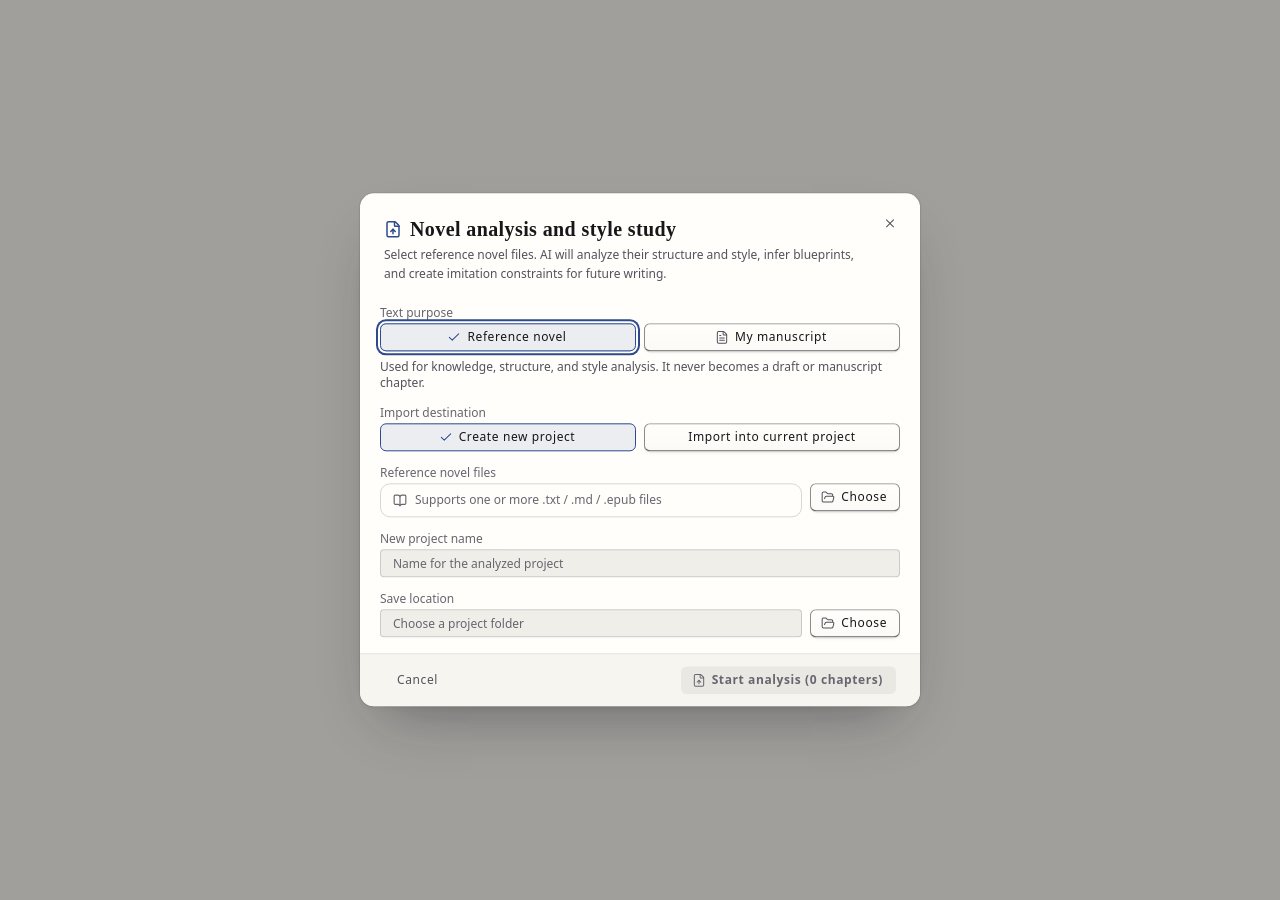
Test: current-project reference import › shows the merged new-import inspection in English without a renderer grant step
Click the button with test id "import-target-current".
click(772, 438)  # box [644,424,900,452]
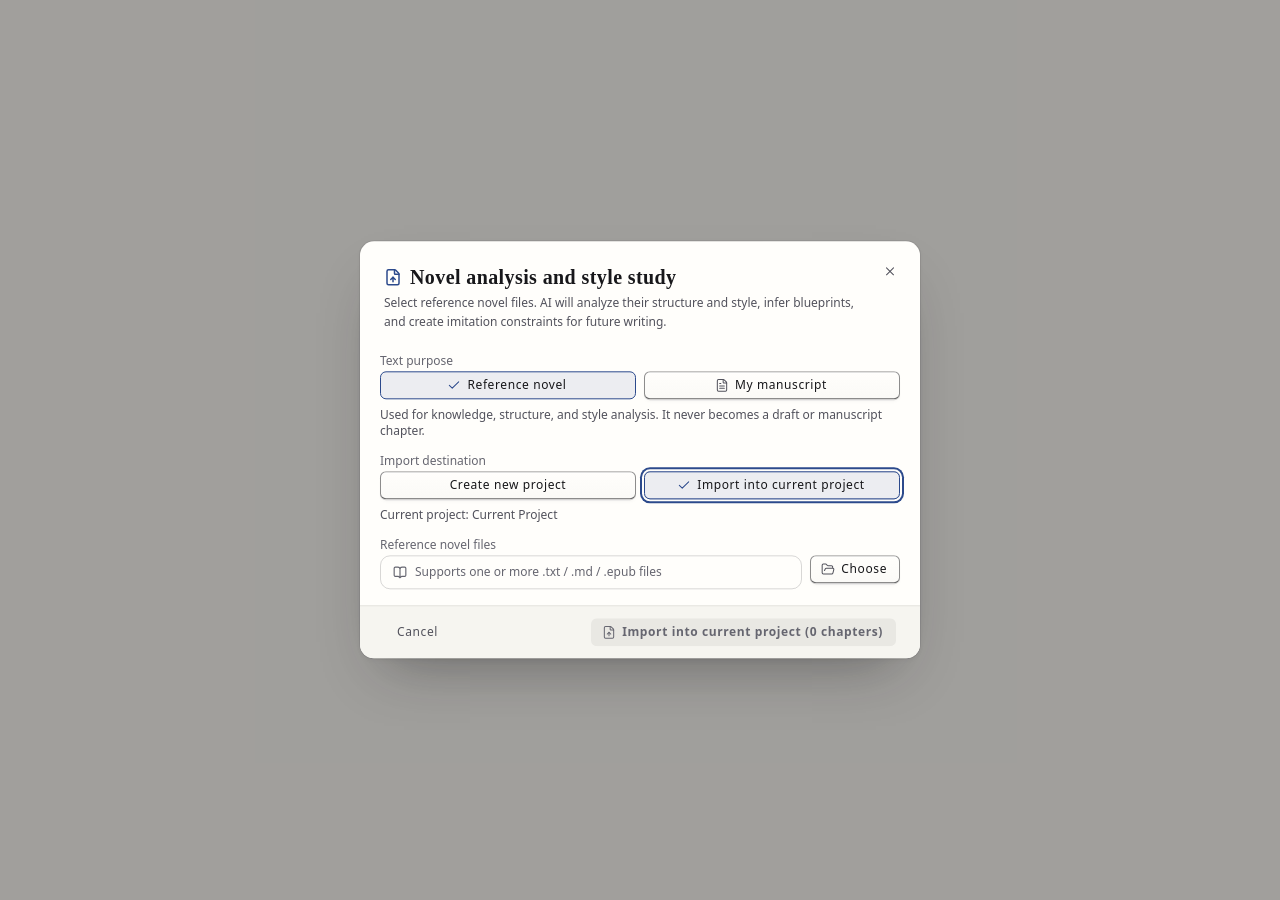
Click the button "Choose".
click(855, 570)  # box [810,556,900,584]
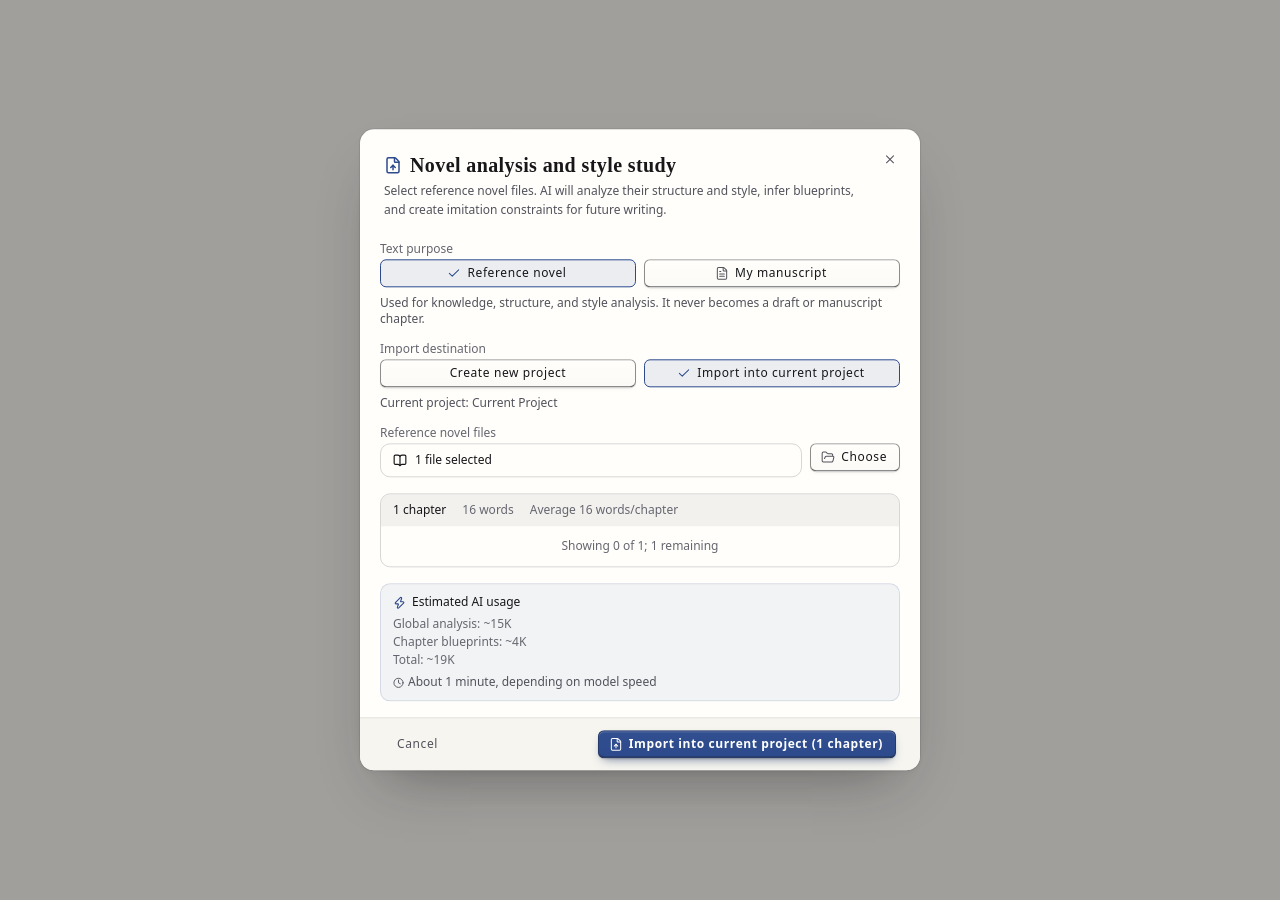
Check: the text "1 file selected" is shown, box [380,444,802,478]
Check: the text "1 chapter" is shown, box [393,503,446,519]
Check: the text "Chapter blueprints: ~4K" is shown, box [393,634,526,651]
